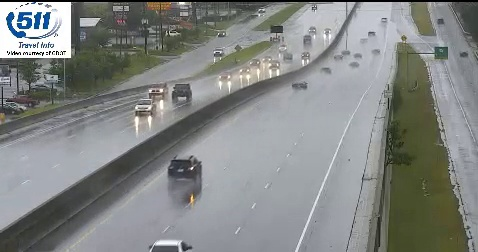car: (169, 155, 202, 181)
